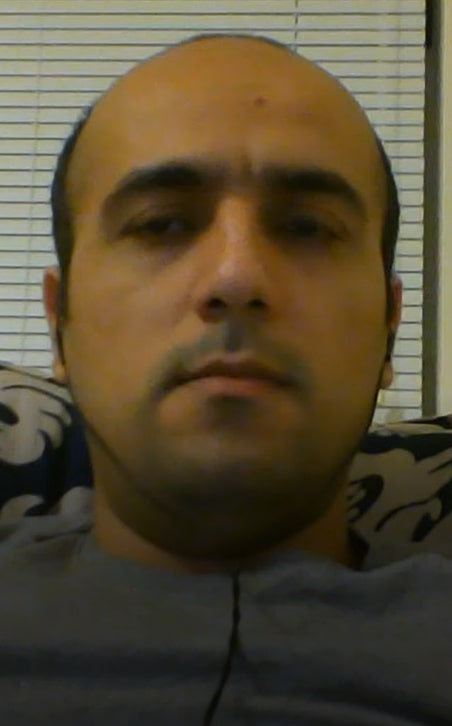Half Asleep: (95, 153, 373, 272)
